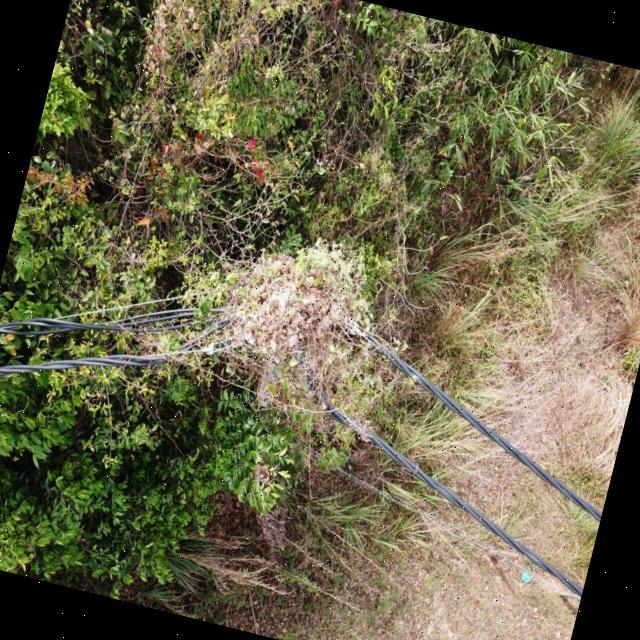critical vegetation: (151, 208, 392, 532)
